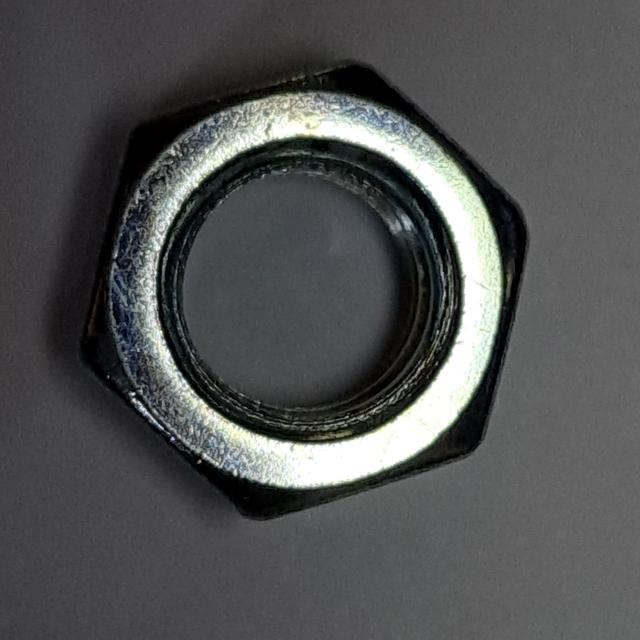Excellent: (66, 49, 544, 537)
